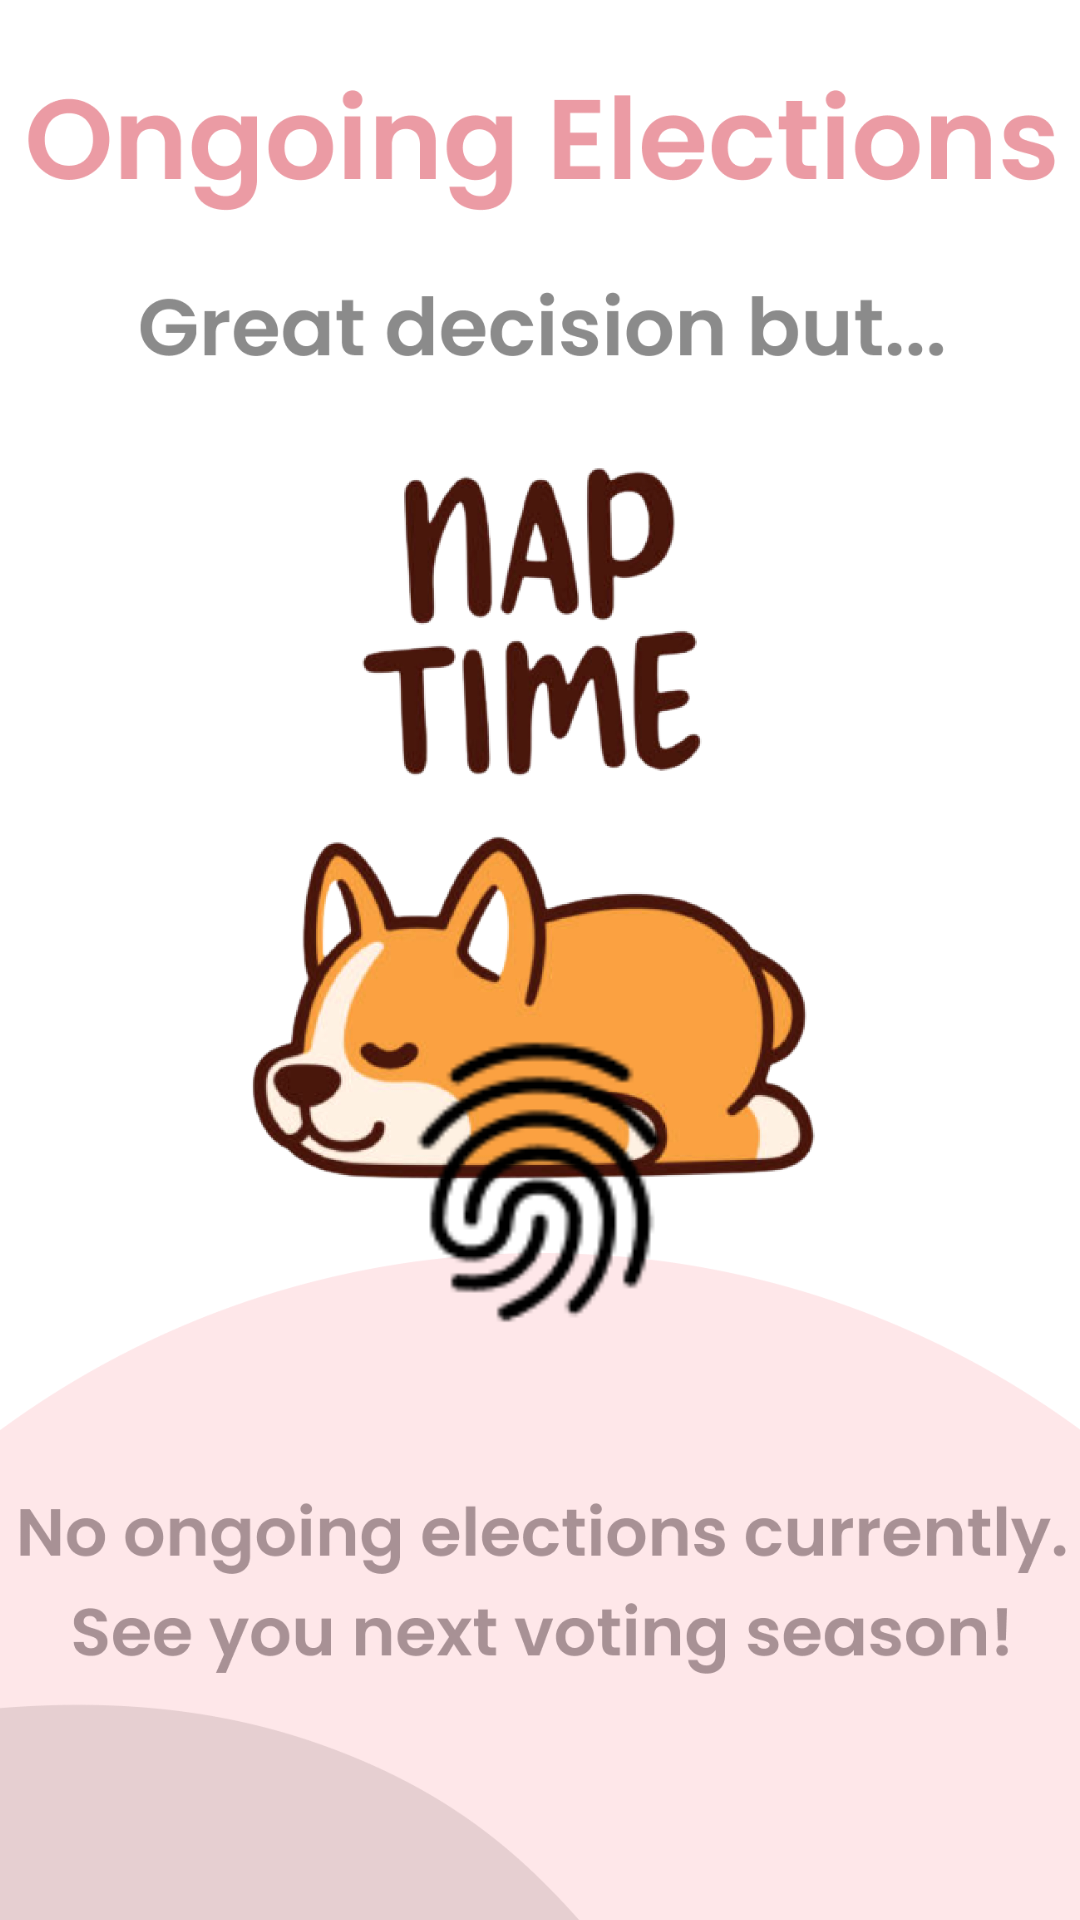

Icons on this 1080×1920 Android screen, each with the point to tap as (x,y):
fingerprint: (540,1182)
